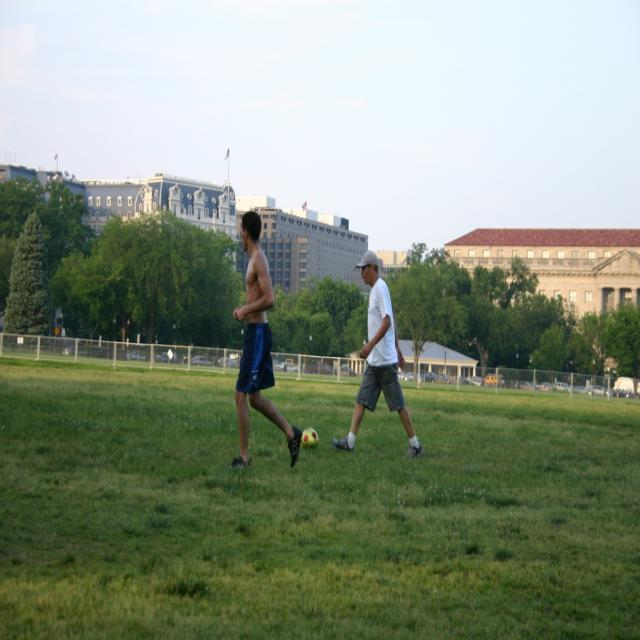ball: (301, 427, 319, 450)
